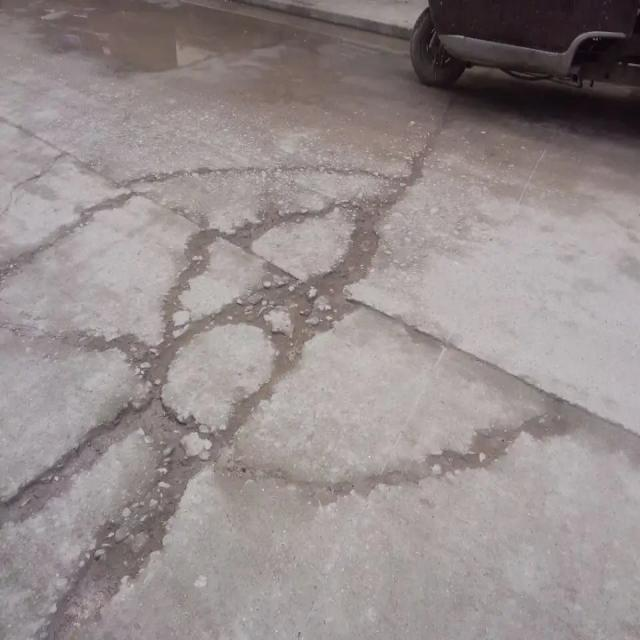Pothole: (259, 170, 412, 387), (108, 331, 209, 609)
